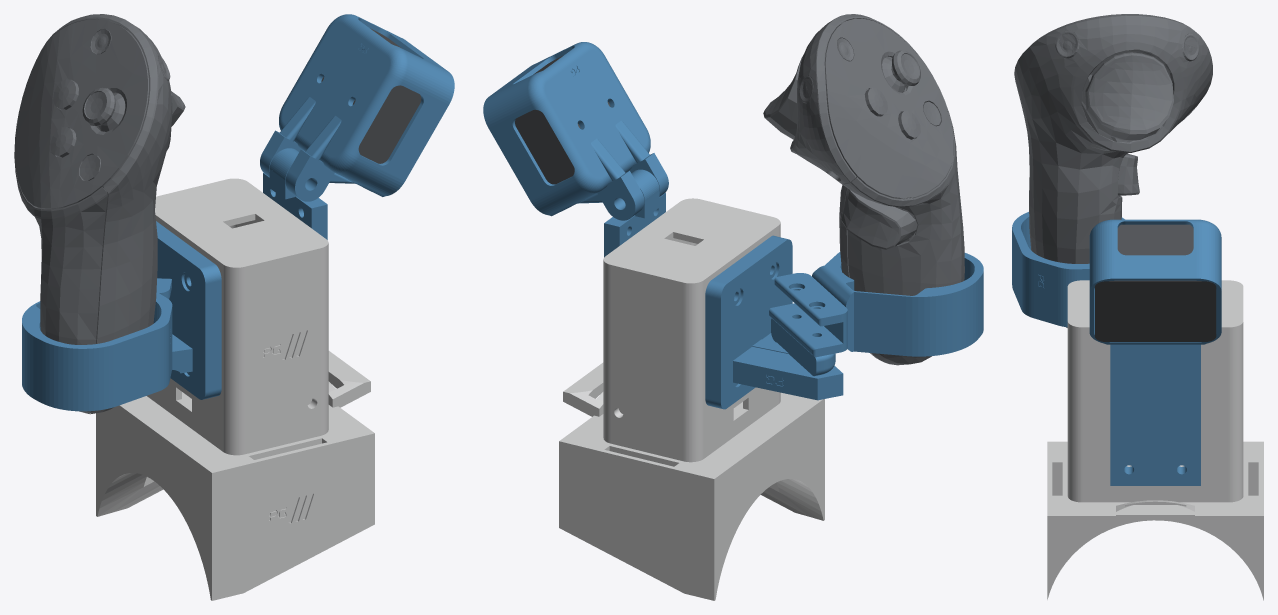
The model's file is hand.glb.
3 views of the same model, side by side, from view 1: azimuth 30°, elevation 25°; view 2: azimuth 150°, elevation 25°; view 3: azimuth 270°, elevation 25° (orthographic). The views are drawn at different scales.
Parts seen in each view (by area): view 1: quest_controller_envelope, ebox_wrist_saddle, ebox, d405_cup, quest_support_right, quest_arm_right, d405_envelope, d405_frame_hand; view 2: quest_controller_envelope, ebox_wrist_saddle, ebox, d405_cup, quest_support_right, quest_arm_right, d405_envelope, d405_frame_hand; view 3: quest_controller_envelope, ebox, d405_frame_hand, ebox_wrist_saddle, d405_envelope, d405_cup, quest_support_right.
Boxes of the visible parts, x1,y1,x2,y2 form: quest_controller_envelope: (14,14,185,414); ebox_wrist_saddle: (96,351,374,600); ebox: (152,178,328,449); d405_cup: (260,14,454,201); quest_support_right: (22,278,172,411); quest_arm_right: (156,221,221,399); d405_envelope: (321,28,421,163); d405_frame_hand: (263,148,327,239); quest_controller_envelope: (763,14,964,365); ebox_wrist_saddle: (559,362,824,600); ebox: (603,198,780,456); d405_cup: (483,42,668,220); quest_support_right: (769,252,983,357); quest_arm_right: (705,235,843,409); d405_envelope: (515,55,610,184); d405_frame_hand: (604,169,665,257); quest_controller_envelope: (1014,14,1212,327); ebox: (1067,280,1243,496); d405_frame_hand: (1110,344,1200,485); ebox_wrist_saddle: (1047,441,1263,600); d405_envelope: (1095,224,1216,341); d405_cup: (1089,219,1221,344); quest_support_right: (1012,212,1124,327).
Size of the model in its own units: 0.1626 by 0.1978 by 0.086.
